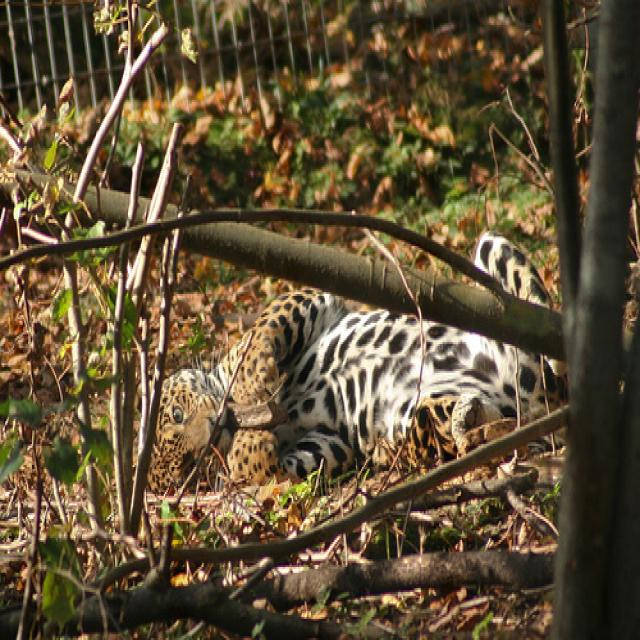Leopard: (130, 228, 560, 498)
